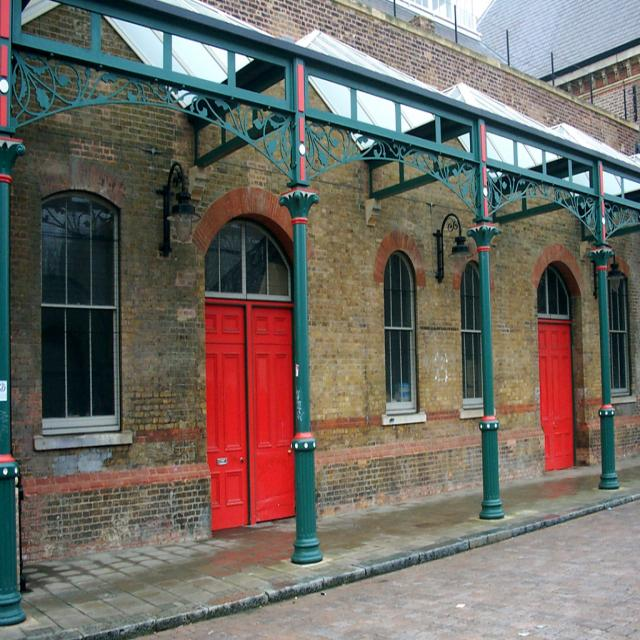Lamppost: (162, 156, 194, 298), (433, 210, 464, 346), (594, 234, 624, 326)
column: (2, 80, 51, 619), (286, 130, 326, 567), (469, 182, 506, 536), (586, 178, 624, 502)
door: (209, 295, 294, 520), (539, 318, 575, 463)
window: (38, 212, 122, 402), (382, 261, 432, 395), (451, 267, 500, 401), (595, 269, 637, 401), (217, 219, 291, 291)
